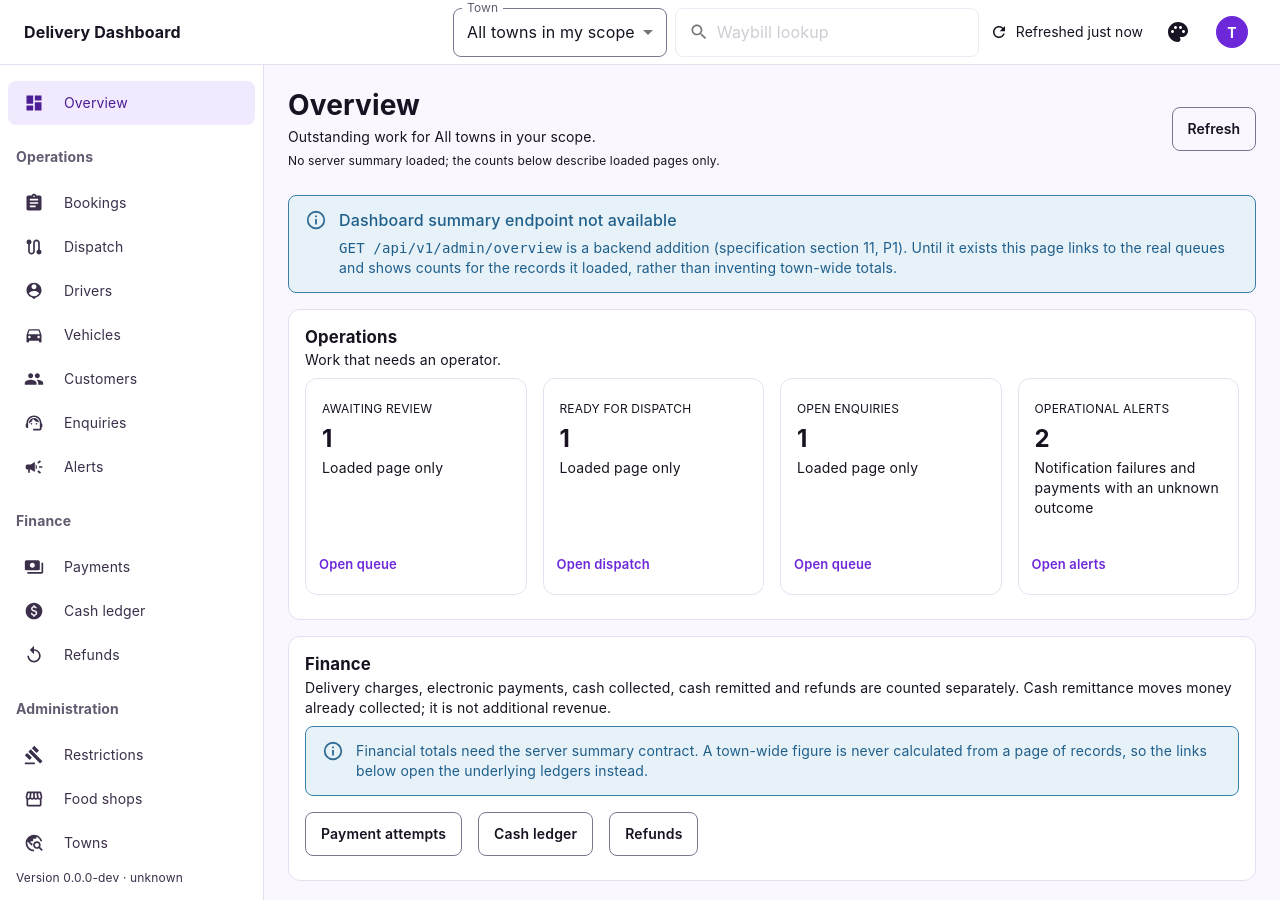
Test: staff session lifecycle › clears local data on sign-out once the server confirmed it
Check: the heading "Overview" is shown, box [288, 88, 420, 122]
Click the button named "Account menu": (1232, 32) [1208, 8, 1256, 56]
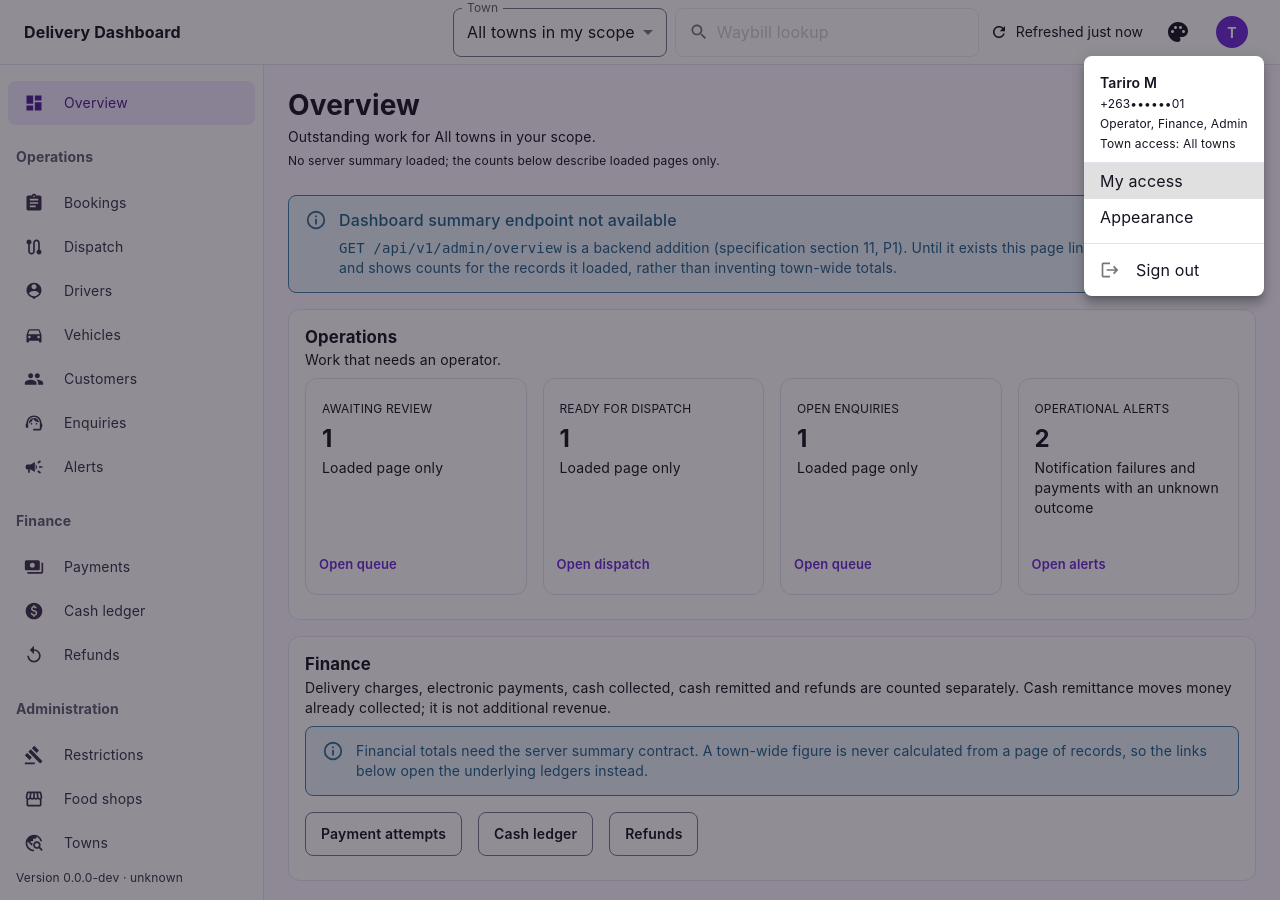
Click the menu item "Sign out": (1150, 270) [1100, 260, 1199, 280]
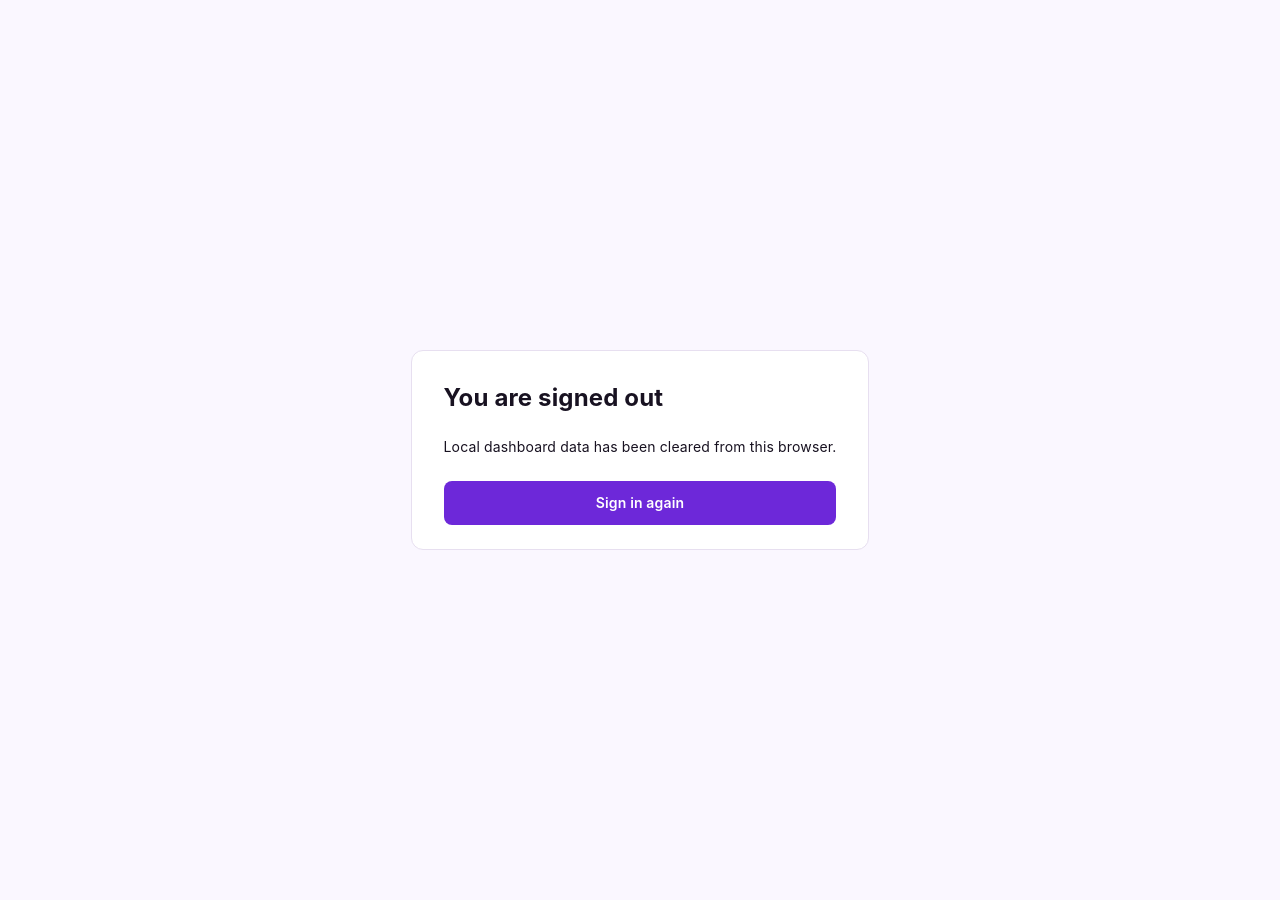
Check: the heading "You are signed out" is shown, box [444, 383, 663, 412]
